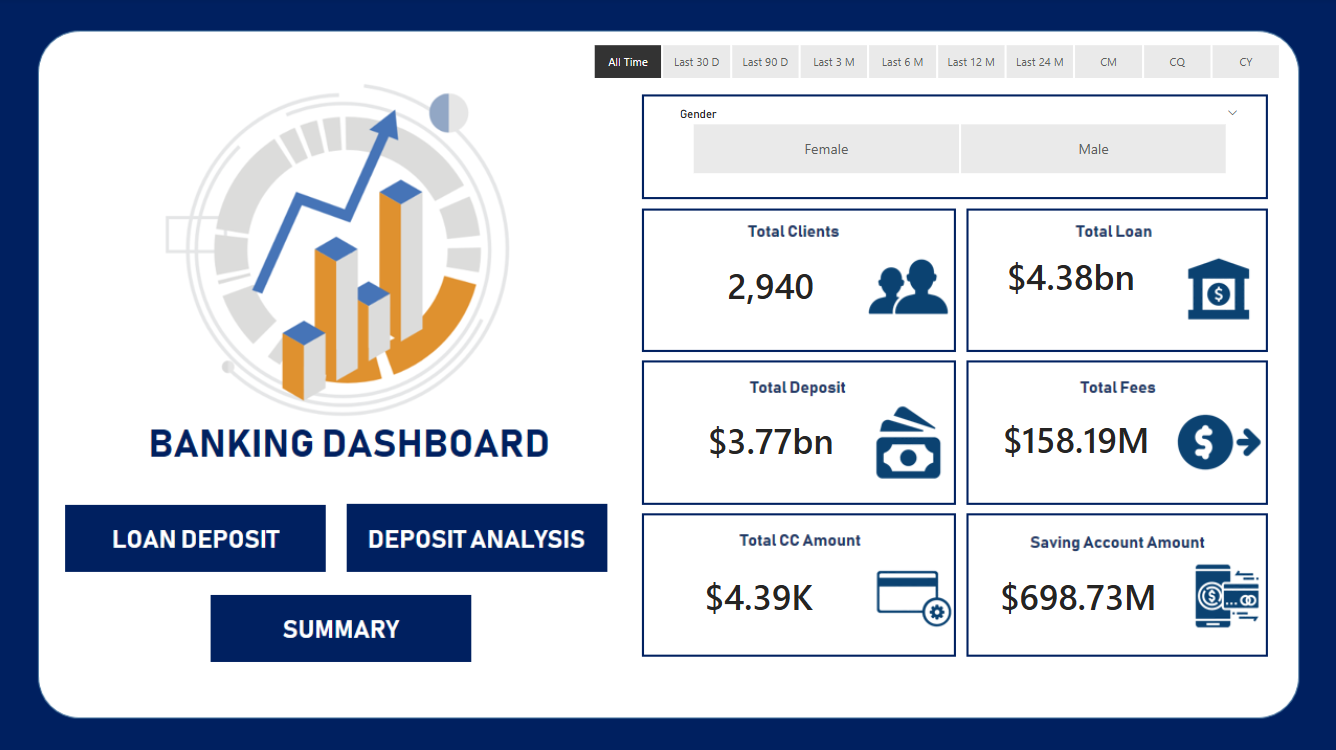

The dashboard page shown, as its layout file describes it:
{"tool":"powerbi","page":{"name":"Home","canvas":[1280,720],"ordinal":0},"visuals":[{"type":"slicer","fields":{"Values":["Gender.Gender"]},"box":[640.3,100.8,558.2,75],"z":0},{"type":"card","fields":{"Values":["DAX Measures.Total Clients"]},"box":[640.3,218.1,198.2,114.9],"z":1000},{"type":"card","fields":{"Values":["DAX Measures.Total Loan"]},"box":[933.4,208.7,184.1,114.9],"z":2000},{"type":"card","fields":{"Values":["DAX Measures.Total Deposit"]},"box":[640.3,374.1,198.2,98.5],"z":3000},{"type":"card","fields":{"Values":["DAX Measures.Total CC Amount"]},"box":[628.5,533.6,198.2,79.7],"z":4000},{"type":"card","fields":{"Values":["DAX Measures.Total Fees"]},"box":[938.1,372.9,185.3,99.7],"z":5000},{"type":"card","fields":{"Values":["DAX Measures.Savings Account"]},"box":[933.4,533.6,198.2,79.7],"z":6000},{"type":"actionButton","box":[63.3,483.1,253.3,65.7],"z":7000},{"type":"actionButton","box":[335.4,485.5,250.9,63.3],"z":8000},{"type":"actionButton","box":[205.2,573.4,255.6,61],"z":9000},{"type":"slicer","fields":{"Values":["Period.Name"]},"box":[546.4,38.7,703.6,45.7],"z":10000}]}

Visuals, with their boxes in screenshot pixels (x1, y1, x2, y2), scaled from the page's 1280x720 canvas onto the 1336x750 screenshot:
slicer - Gender.Gender: detection(668, 105, 1251, 183)
card - DAX Measures.Total Clients: detection(668, 227, 875, 347)
card - DAX Measures.Total Loan: detection(974, 217, 1166, 337)
card - DAX Measures.Total Deposit: detection(668, 390, 875, 492)
card - DAX Measures.Total CC Amount: detection(656, 556, 863, 639)
card - DAX Measures.Total Fees: detection(979, 388, 1173, 492)
card - DAX Measures.Savings Account: detection(974, 556, 1181, 639)
actionButton: detection(66, 503, 330, 572)
actionButton: detection(350, 506, 612, 572)
actionButton: detection(214, 597, 481, 661)
slicer - Period.Name: detection(570, 40, 1305, 88)
